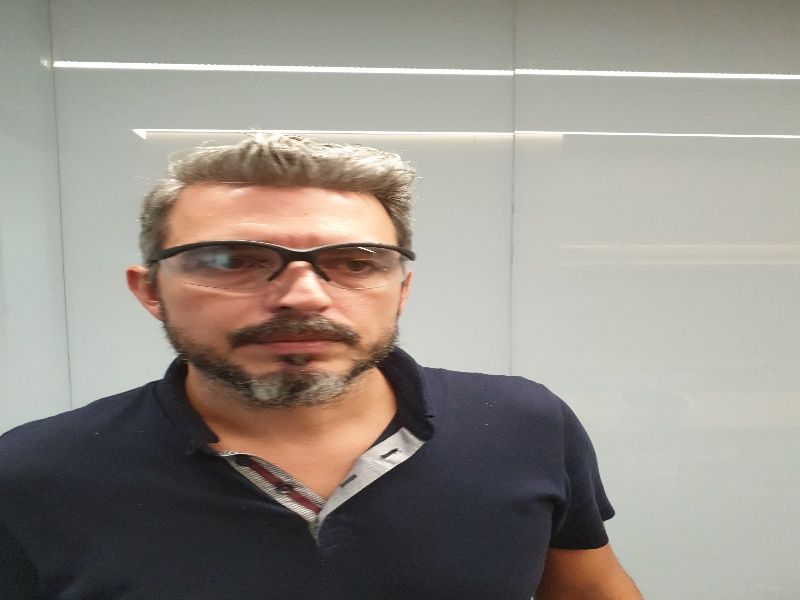Gozluk: (151, 241, 419, 296)
